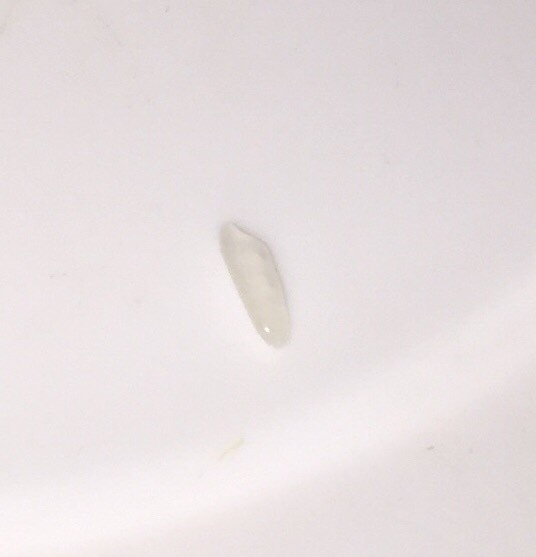Gao Ngoc Troi: (211, 219, 300, 348)
